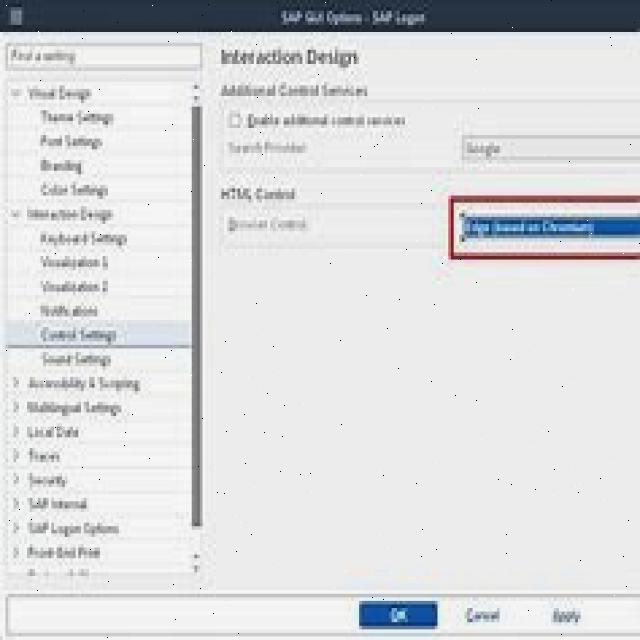button: (356, 596, 440, 633), (545, 602, 597, 628), (460, 600, 505, 625)
checkbox: (226, 110, 244, 130)
dropdownMenu: (4, 206, 189, 370), (5, 76, 188, 202), (221, 206, 444, 251), (3, 373, 150, 396), (3, 398, 130, 420), (6, 517, 120, 539), (8, 543, 102, 561), (3, 423, 81, 444), (4, 470, 75, 491), (5, 496, 90, 513), (4, 446, 61, 462)
icon: (4, 0, 25, 29)
input: (2, 39, 206, 70), (459, 129, 640, 160)
label: (218, 45, 364, 71), (280, 6, 430, 30), (245, 110, 411, 128), (218, 81, 374, 100), (227, 138, 325, 154)
menuItem: (36, 228, 130, 250), (37, 322, 118, 344), (35, 177, 112, 200), (37, 106, 117, 127), (36, 130, 105, 154), (38, 348, 112, 368), (39, 275, 111, 294), (40, 253, 110, 271), (39, 300, 103, 319), (37, 155, 88, 177)
slider: (191, 77, 203, 580)
